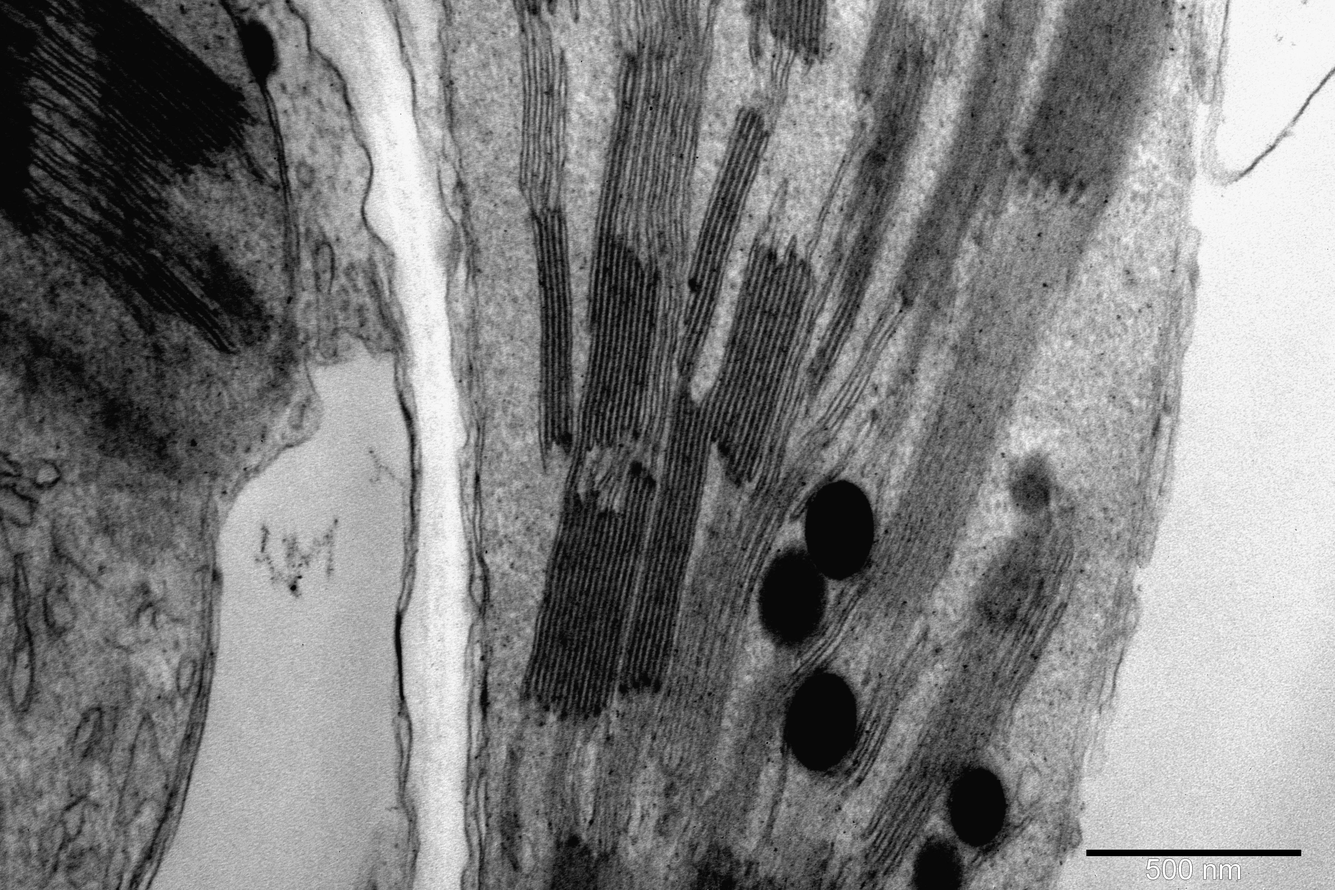granum: (616, 244, 819, 691), (802, 2, 945, 384), (895, 0, 1046, 301), (855, 347, 1023, 614), (574, 54, 664, 451), (518, 472, 657, 714), (74, 0, 254, 178), (1016, 0, 1174, 195), (677, 104, 773, 371), (529, 210, 574, 447), (119, 252, 218, 335), (1, 13, 35, 231), (746, 0, 829, 59), (690, 844, 787, 890), (547, 836, 598, 889), (500, 788, 522, 854)
